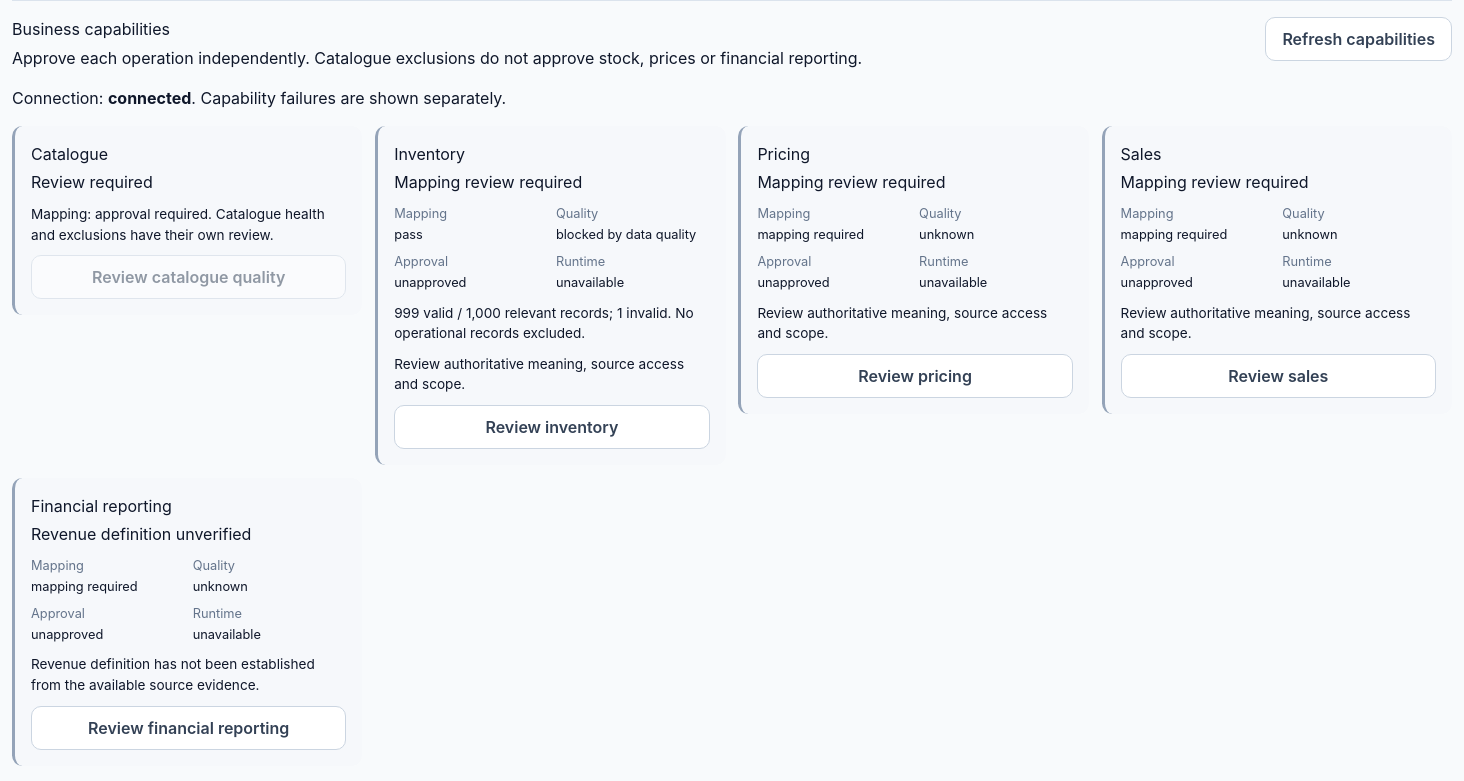
Test: blocks operational approval even below tolerance and shows bounded invalid facts
This screenshot has width=1464, height=781.
Click the button "Review inventory": (552, 427) top-left (394, 405), bottom-right (710, 449)
(page scrolled)
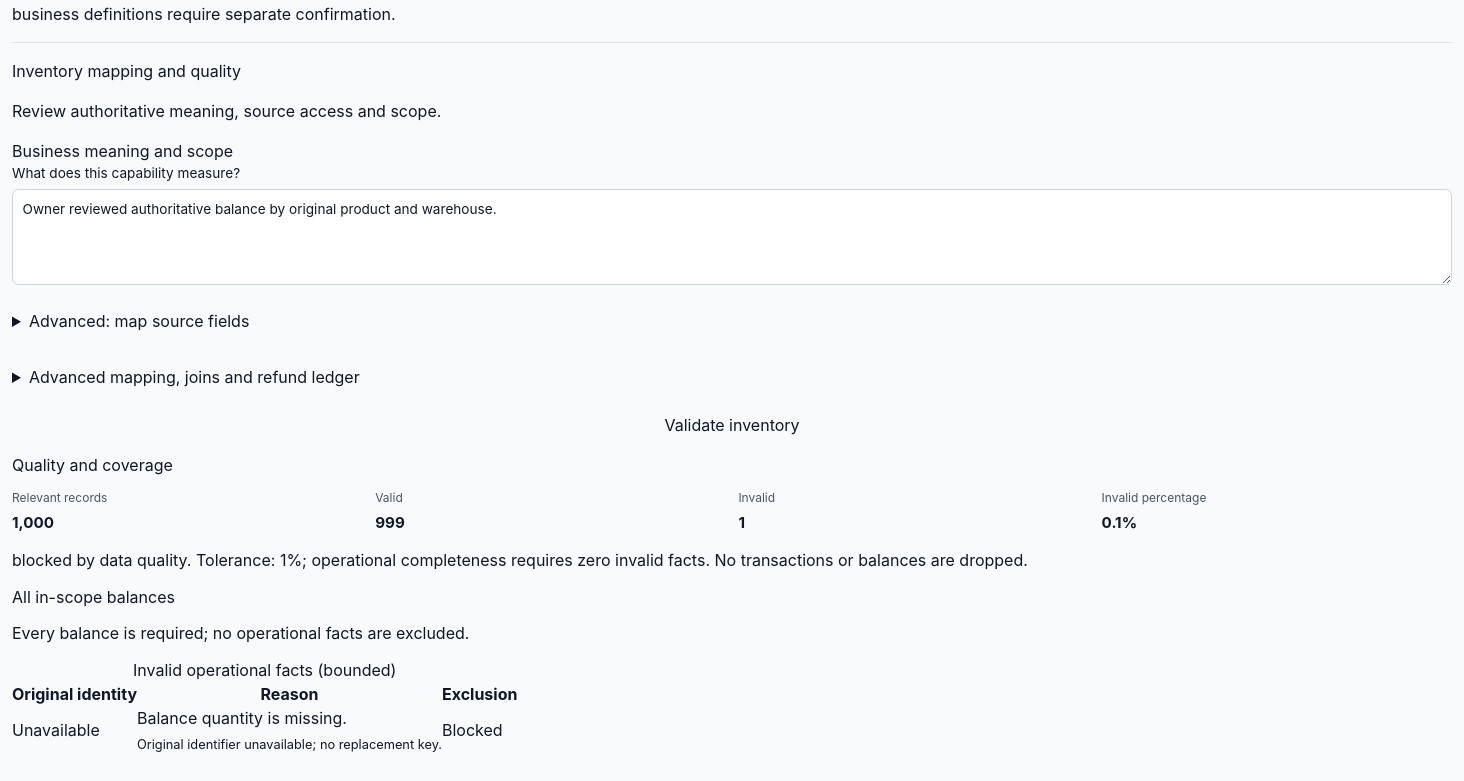
Expected: the text "Balance quantity is missing." is shown, top-left (137, 708), bottom-right (347, 728)
Expected: the text "Original identifier unavailable; no replacement key." is shown, top-left (137, 735), bottom-right (442, 754)
